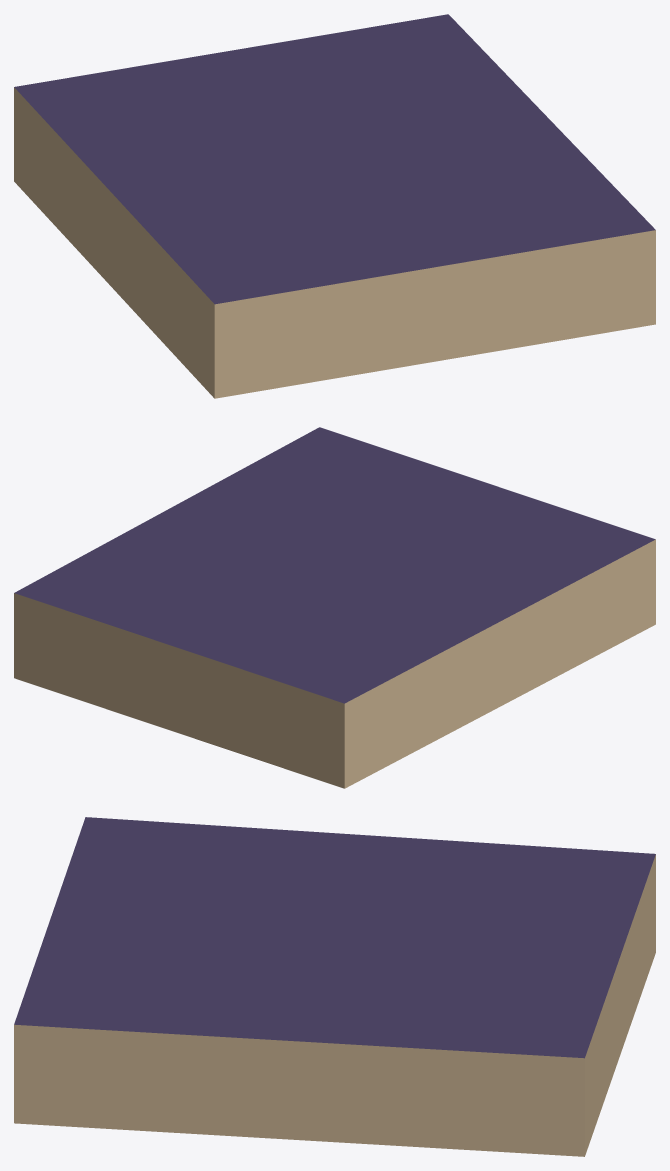
3 views of the same model, one above another, from view 1: azimuth 30°, elevation 25°; view 2: azimuth 150°, elevation 25°; view 3: azimuth 270°, elevation 25° (orthographic). The views are drawn at different scales.
Visible parts, largest first — view 1: campus/b-105-0; view 2: campus/b-105-0; view 3: campus/b-105-0.
Boxes of the visible parts, x1,y1,x2,y2 form: campus/b-105-0: (14,14,655,398); campus/b-105-0: (14,427,655,788); campus/b-105-0: (14,817,655,1156).
Size of the model in its own units: 15.72 by 3 by 17.69.
